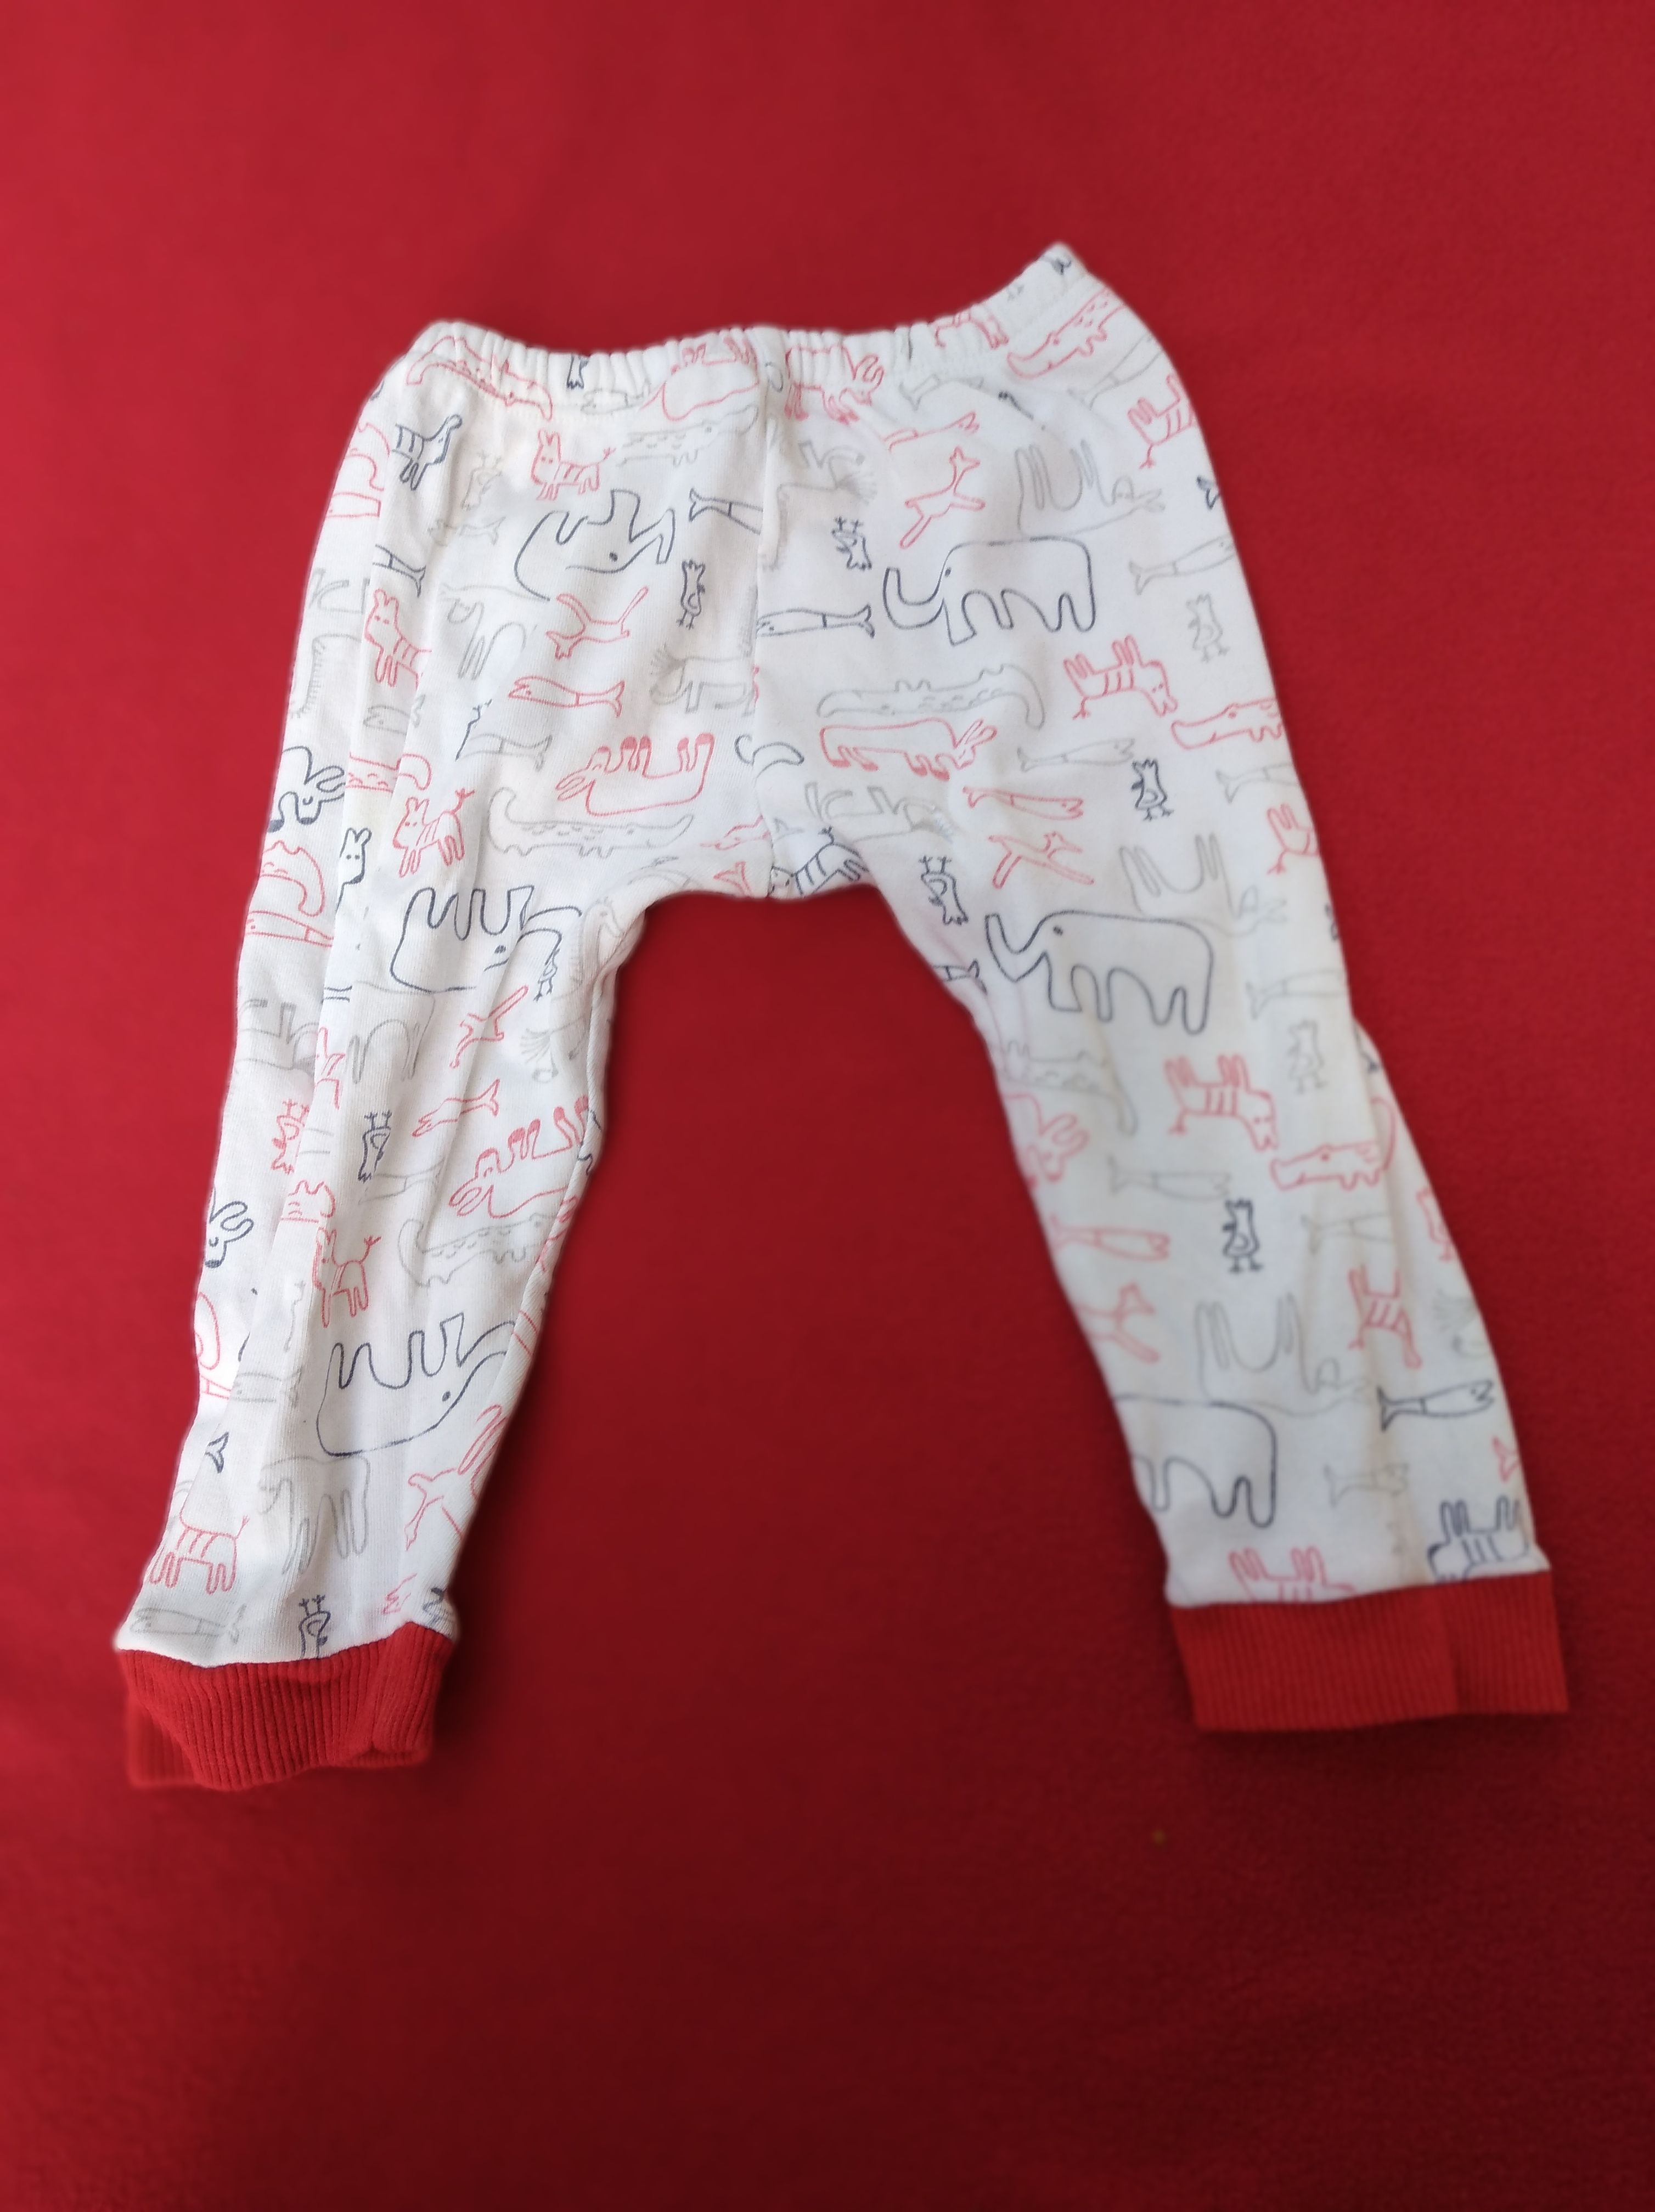clothes: (101, 247, 1575, 1776)
